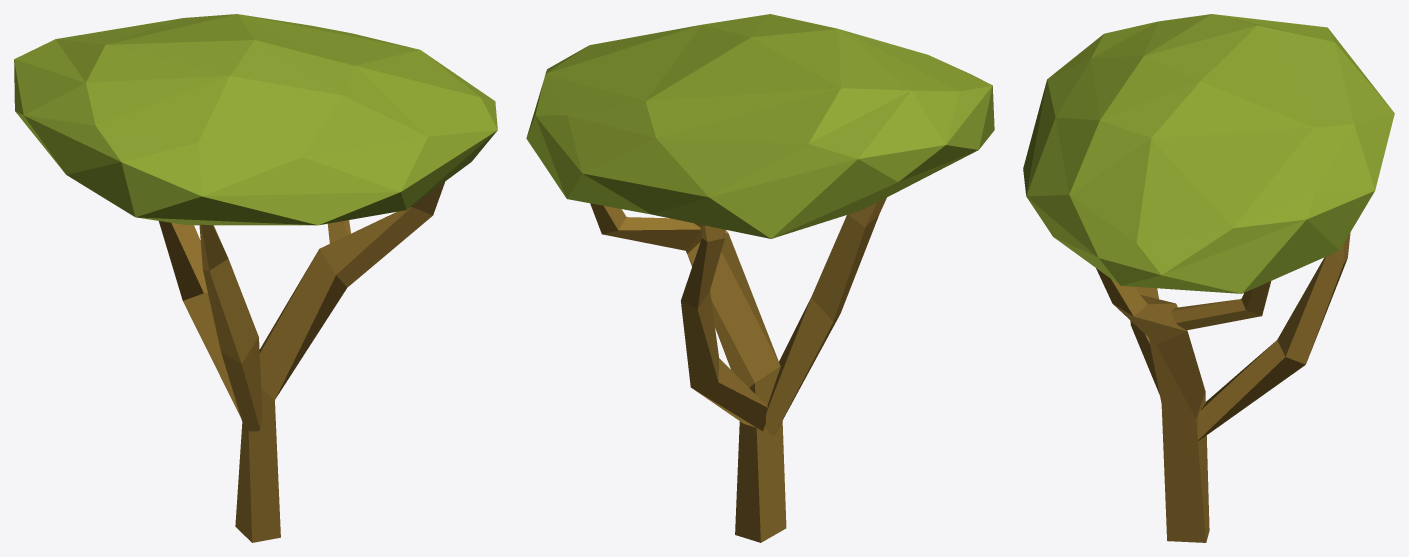
The model's file is AcaciaTree_4.fbx.
3 views of the same model, side by side, from view 1: azimuth 30°, elevation 25°; view 2: azimuth 150°, elevation 25°; view 3: azimuth 270°, elevation 25° (orthographic). The views are drawn at different scales.
Parts seen in each view (by area): view 1: Leaves, Branch.001, Branch, Branch.002; view 2: Leaves, Branch.001, Branch, Branch.002, Branch.003; view 3: Leaves, Branch.001, Branch.002, Branch.003, Branch.
Part boxes in pixels (x1,y1,x2,y2): Leaves: (14, 14, 497, 225); Branch.001: (235, 182, 444, 542); Branch: (199, 224, 262, 440); Branch.002: (159, 221, 240, 417); Leaves: (526, 14, 994, 238); Branch.001: (686, 223, 786, 542); Branch: (765, 197, 886, 436); Branch.002: (681, 225, 767, 431); Branch.003: (590, 203, 700, 250); Leaves: (1023, 14, 1394, 293); Branch.001: (1096, 268, 1209, 542); Branch.002: (1197, 232, 1350, 440); Branch.003: (1171, 281, 1271, 330); Branch: (1130, 286, 1159, 394).
Bounding box in the file's own units: 416 × 451 × 332.
